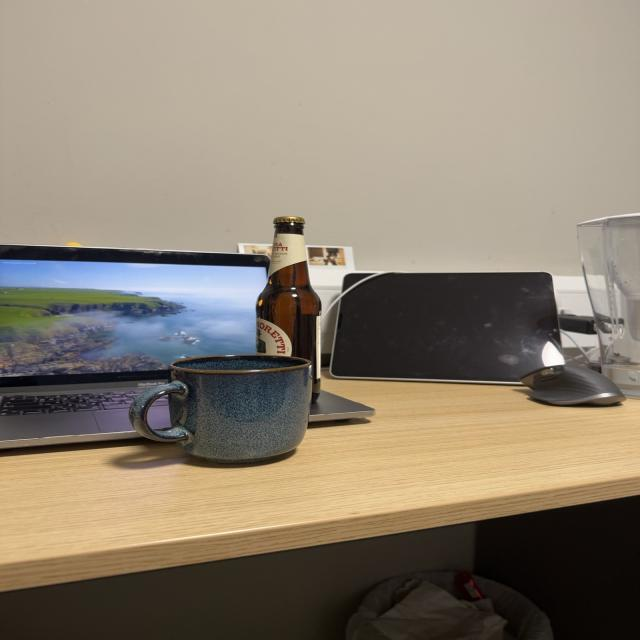beer: (250, 210, 327, 417)
